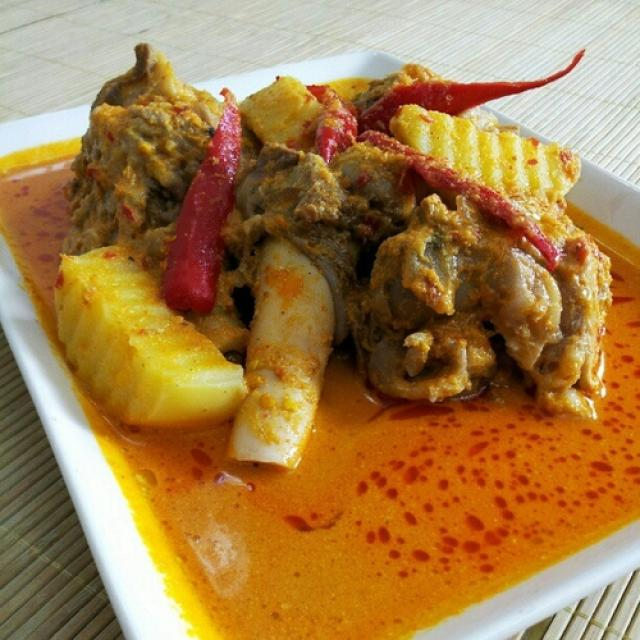熟制海鲜: (12, 28, 627, 621)
